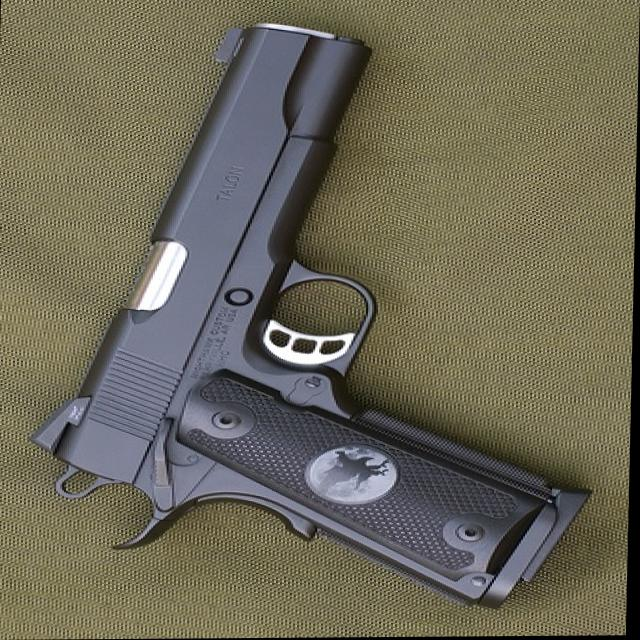handgun: (26, 19, 603, 613)
